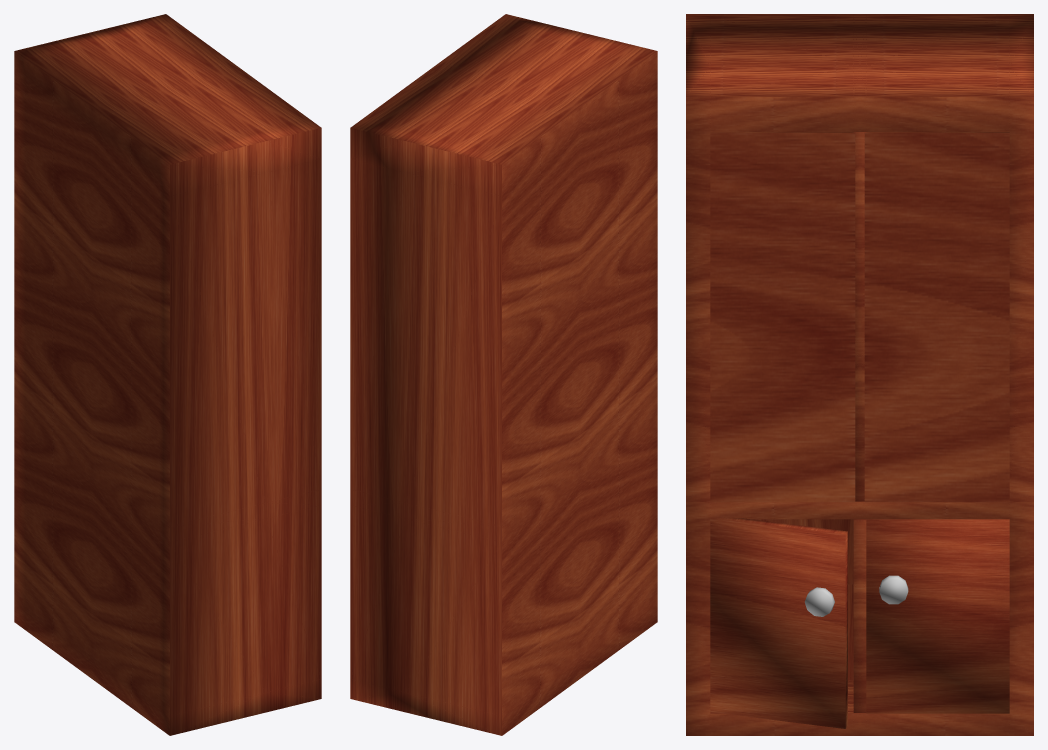
Rendered from Wardrobe.fbx.
The picture shows the model from 3 angles, left to right: view 1: azimuth 30°, elevation 25°; view 2: azimuth 150°, elevation 25°; view 3: azimuth 270°, elevation 25°; orthographic projection. The views are drawn at different scales.
Parts seen in each view (by area): view 1: Cabinet; view 2: Cabinet; view 3: GlassDoors, Cabinet, ClosedDoor, OpenDoor.
Boxes of the visible parts, bbox=[...] form: Cabinet: bbox=[14, 14, 321, 735]; Cabinet: bbox=[350, 14, 657, 735]; GlassDoors: bbox=[710, 132, 1009, 502]; Cabinet: bbox=[686, 14, 1033, 735]; ClosedDoor: bbox=[866, 519, 1009, 713]; OpenDoor: bbox=[710, 518, 847, 728].
Size of the model in its own units: 385 by 1134 by 559.
